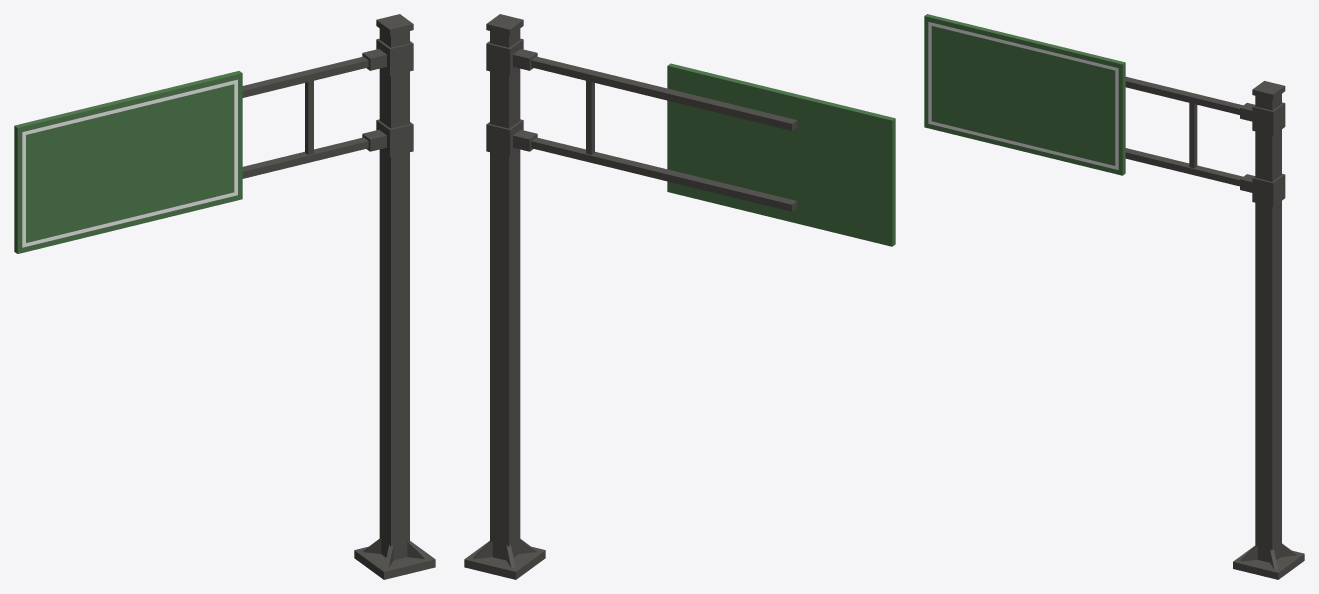
The model's file is Big_Road_Sing_2.fbx.
The picture shows the model from 3 angles, left to right: view 1: azimuth 30°, elevation 25°; view 2: azimuth 150°, elevation 25°; view 3: azimuth 330°, elevation 25°; orthographic projection. The views are drawn at different scales.
Visible parts, largest first — view 1: Big_Road_Sing_2; view 2: Big_Road_Sing_2; view 3: Big_Road_Sing_2.
Part boxes in pixels (box(x1,y1,x2,y2)): Big_Road_Sing_2: box(14, 14, 435, 579); Big_Road_Sing_2: box(464, 14, 895, 579); Big_Road_Sing_2: box(924, 14, 1304, 579).
Bounding box in the file's own units: 7.33 × 9.25 × 0.9244.
1 material, 1 textured.
